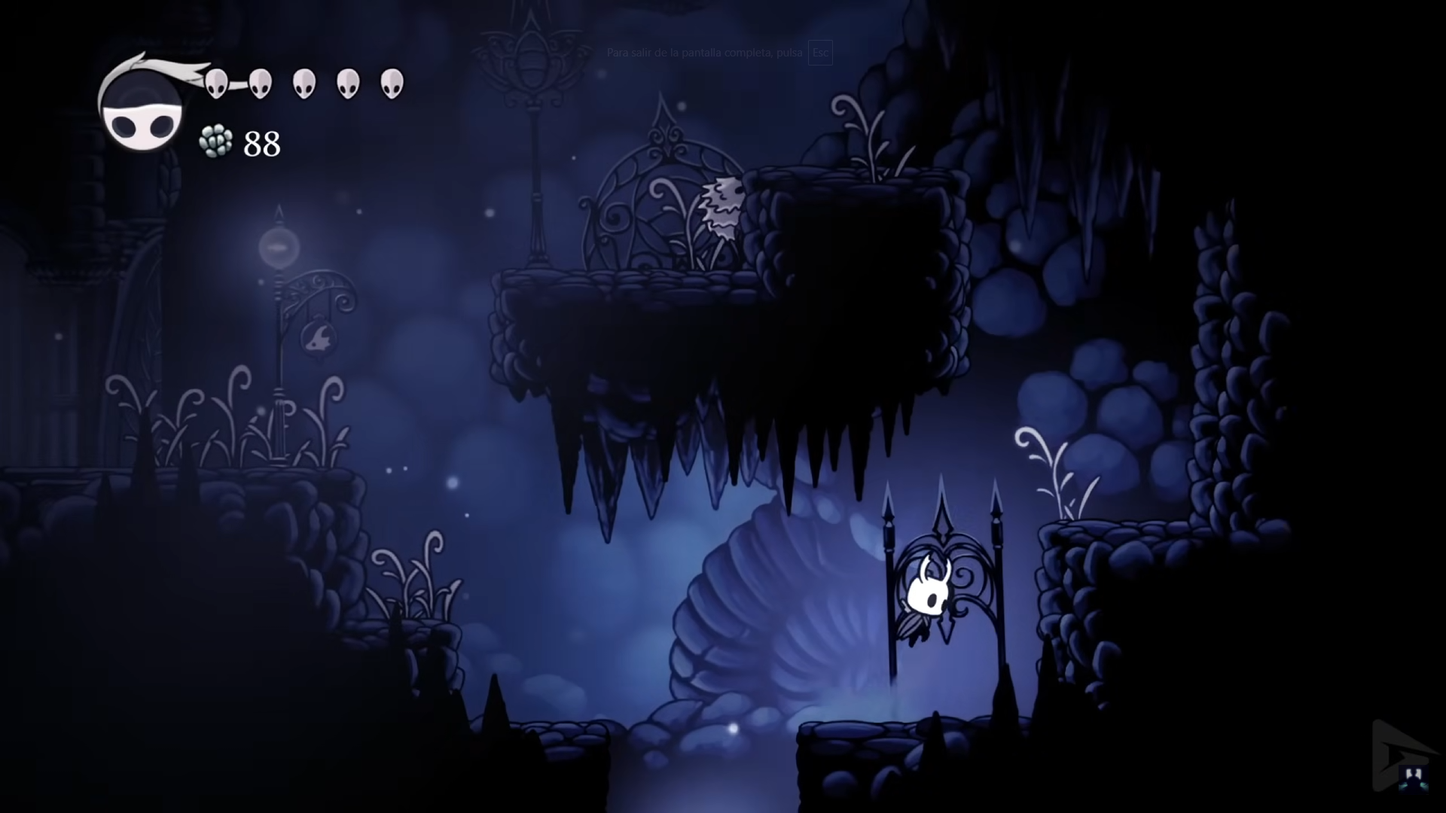HK: (890, 551, 956, 653)
